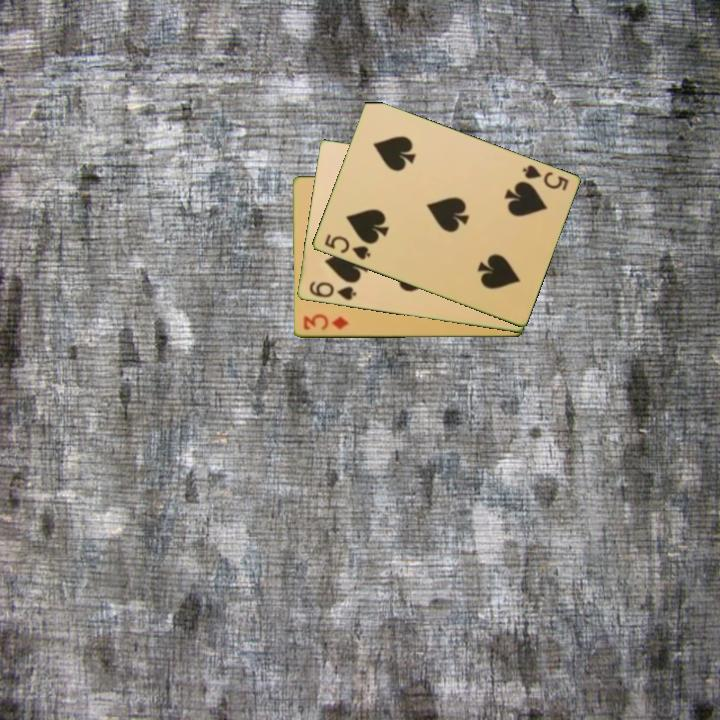3d: (300, 311, 351, 333)
5s: (518, 162, 571, 194), (321, 231, 373, 263)
6s: (305, 278, 359, 303)
